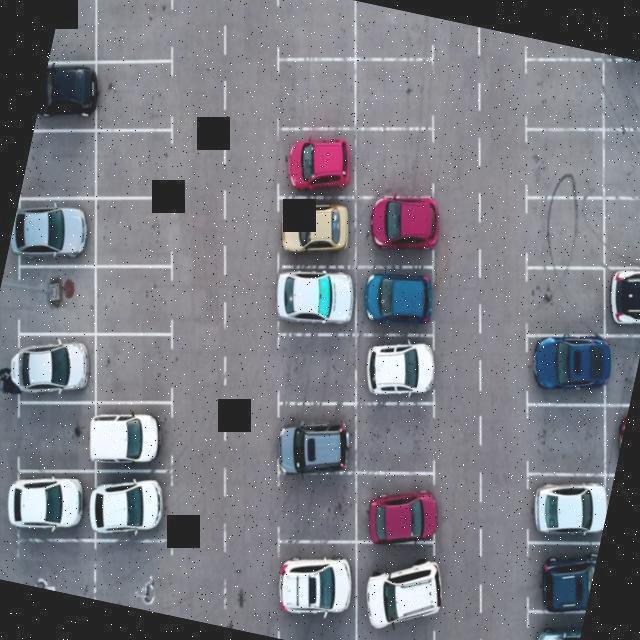space-empty: (79, 248, 189, 352), (509, 184, 620, 286), (509, 113, 617, 215), (511, 248, 621, 346), (77, 116, 187, 212), (79, 185, 186, 283), (82, 523, 193, 617), (266, 316, 369, 417), (3, 387, 108, 485), (265, 46, 368, 145), (83, 321, 187, 418), (515, 394, 618, 491), (340, 50, 445, 144), (341, 391, 445, 483), (342, 115, 445, 206), (85, 56, 186, 147), (266, 463, 365, 554), (79, 0, 187, 81), (4, 256, 103, 342), (515, 58, 612, 142), (20, 121, 108, 212), (10, 531, 112, 601), (342, 0, 442, 67), (263, 0, 362, 66), (506, 34, 605, 82), (591, 180, 640, 275), (47, 0, 106, 75), (594, 121, 640, 210), (593, 54, 640, 141), (596, 319, 640, 403)
space-occupied: (335, 527, 454, 640), (260, 526, 373, 640), (513, 313, 622, 417), (5, 320, 110, 421), (81, 454, 184, 555), (340, 322, 444, 419), (2, 455, 105, 550), (263, 390, 366, 485), (341, 251, 445, 345), (340, 460, 446, 551), (513, 456, 614, 550), (340, 188, 441, 279), (266, 185, 367, 274), (265, 115, 366, 204), (85, 390, 183, 480), (9, 186, 104, 271), (514, 527, 600, 619), (271, 254, 365, 335), (33, 57, 108, 147), (595, 253, 640, 338)
